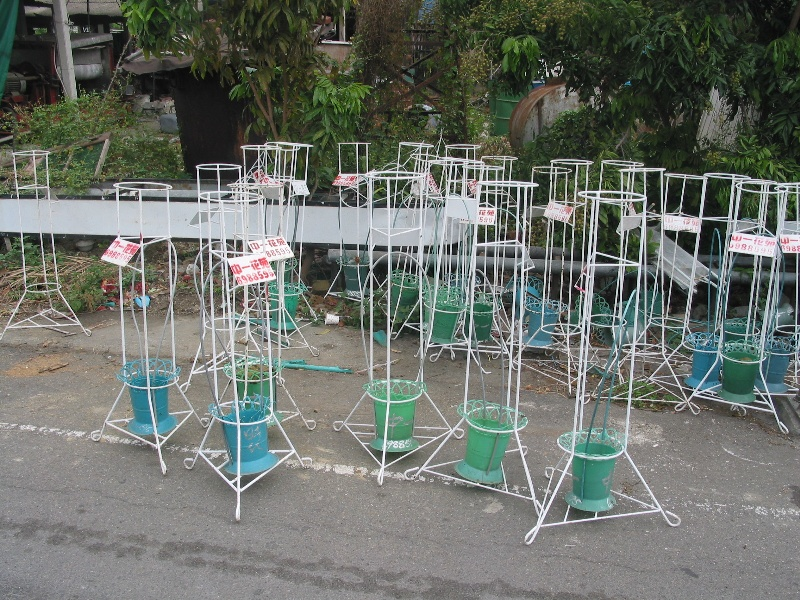bottle: (216, 407, 279, 475), (454, 416, 513, 484), (561, 442, 617, 513), (127, 375, 176, 436), (370, 392, 418, 451), (720, 346, 761, 403), (752, 347, 790, 393), (521, 305, 561, 347), (683, 346, 721, 390), (429, 306, 463, 345), (465, 301, 493, 342)
